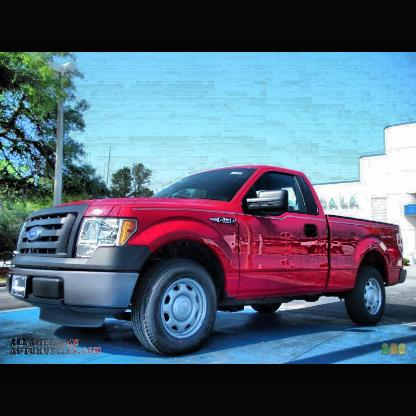Ford F-150 Regular Cab 2012: (8, 166, 408, 358)
